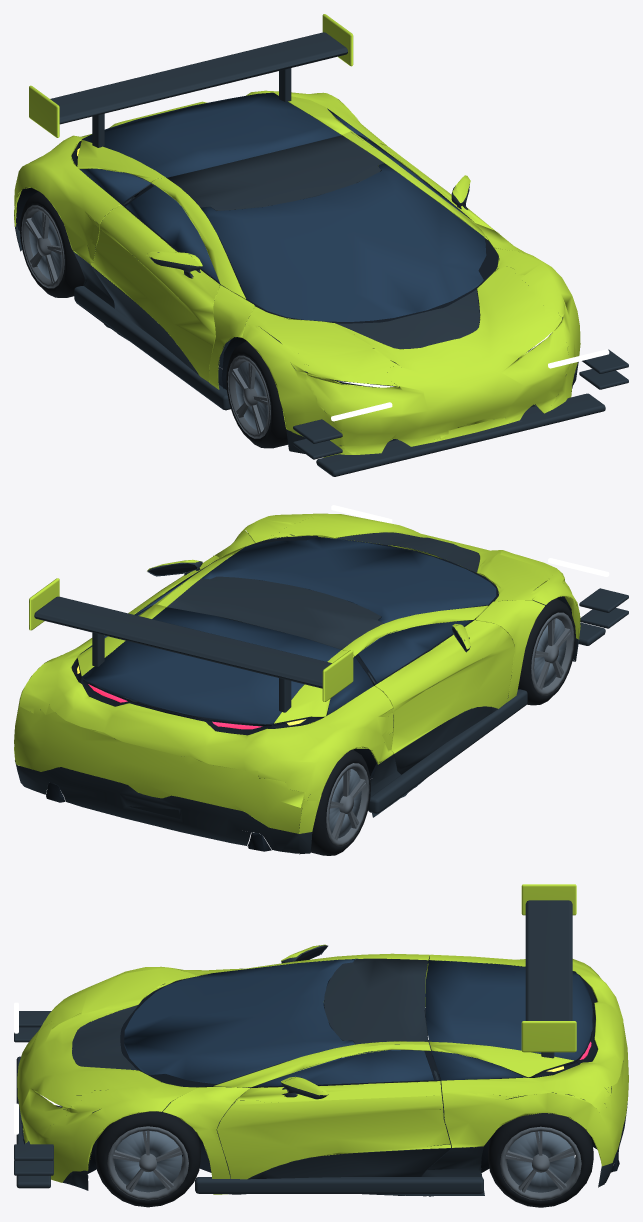
Rendered from vector-lod1.glb.
3 renders of one model, top to bottom at view 1: azimuth 30°, elevation 25°; view 2: azimuth 150°, elevation 25°; view 3: azimuth 270°, elevation 25°, orthographic. The views are drawn at different scales.
Visible parts, largest first — view 1: Body, WheelFrontR, WheelRearR; view 2: Body, WheelRearR, WheelFrontR; view 3: Body, WheelFrontL, WheelRearL.
Boxes of the visible parts, x1,y1,x2,y2 form: Body: [14, 14, 628, 476]; WheelFrontR: [226, 341, 288, 448]; WheelRearR: [20, 191, 84, 297]; Body: [14, 505, 628, 854]; WheelRearR: [310, 749, 370, 855]; WheelFrontR: [518, 598, 575, 705]; Body: [14, 884, 628, 1196]; WheelFrontL: [95, 1110, 200, 1207]; WheelRearL: [488, 1113, 593, 1207].
Size of the model in its own units: 2.57 by 1.51 by 4.47.
